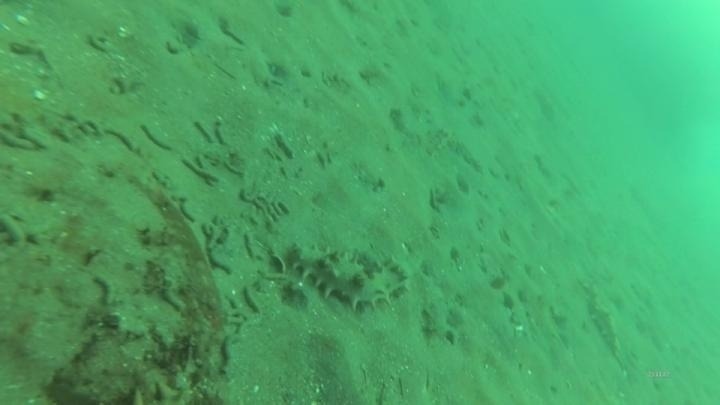holothurian: (280, 239, 410, 313)
